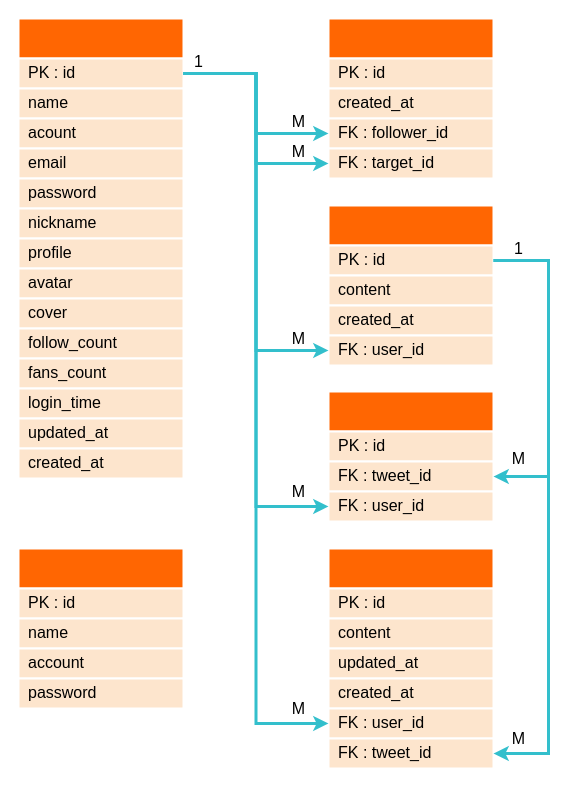
This 575x790 diagram has some shape labels left out. Here are the shapes that lost their labels. From the top down, the box of each, then its label:
(327, 17, 494, 179): follows
(17, 17, 184, 479): users
(327, 204, 494, 366): tweets
(327, 390, 494, 522): likes
(17, 547, 184, 709): admins
(327, 547, 494, 769): comments
